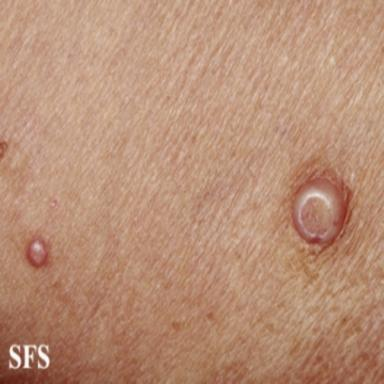Molluscum-Contagiosum: (293, 178, 347, 244), (27, 238, 48, 267), (0, 141, 8, 158)
